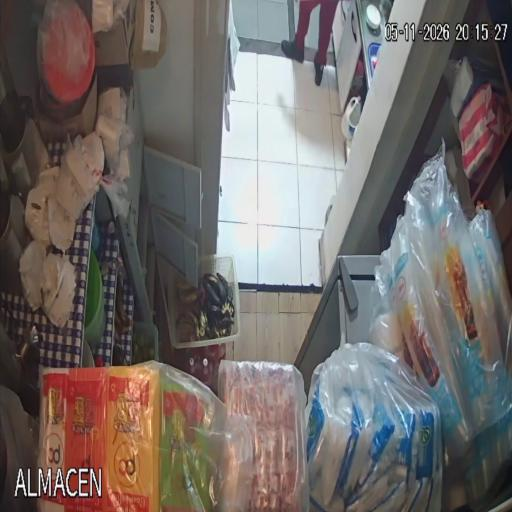Envase para platanos: (168, 255, 240, 348)
Productos culinarios: (368, 140, 512, 506), (30, 361, 256, 512), (306, 343, 443, 512), (218, 361, 309, 512)
Taper: (84, 251, 105, 348)
Taper2: (82, 339, 95, 367)
